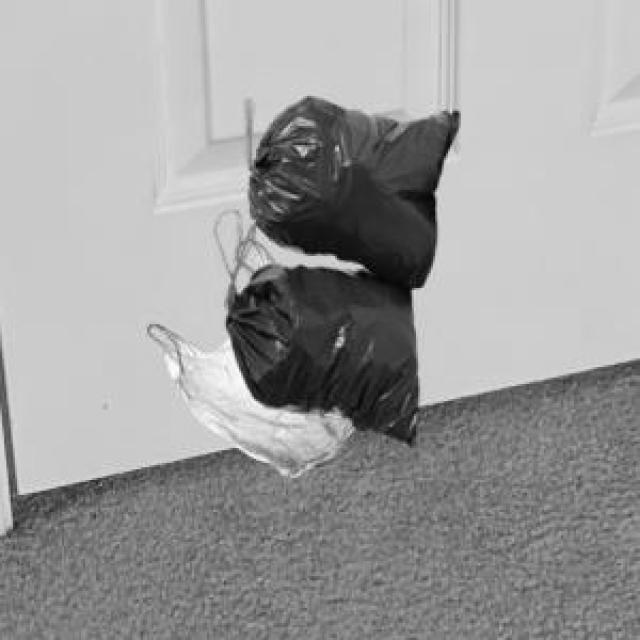miscellaneous trash: (220, 92, 454, 444)
